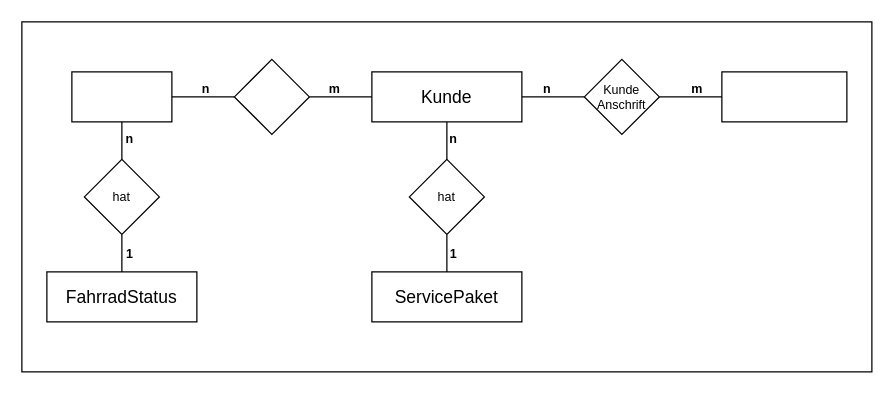
The diagram is 894 pixels wide and 394 high, and some of its shapes have lost their labels. Here are the shapes that lost their labels. From the top down, the centre of each, then its label:
(x=121, y=96): Fahrrad
(x=271, y=96): Kunde Fahrrad
(x=784, y=96): Anschriften
